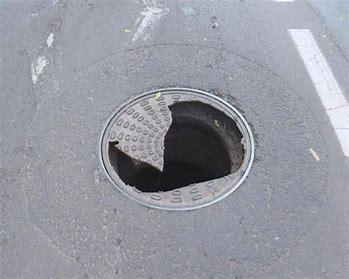wellcover: (89, 86, 259, 216)
